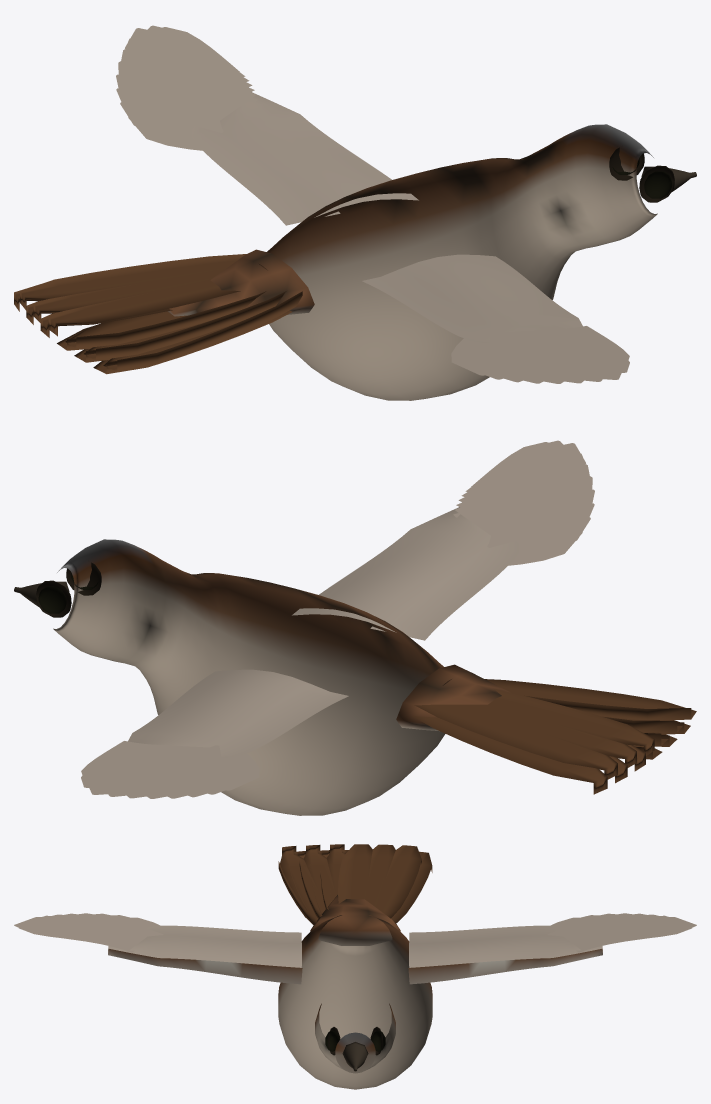
The model's file is SM_Bird_sparrow_glide.glb.
The picture shows the model from 3 angles, top to bottom: view 1: azimuth 30°, elevation 25°; view 2: azimuth 150°, elevation 25°; view 3: azimuth 270°, elevation 25°; orthographic projection. The views are drawn at different scales.
Parts seen in each view (by area): view 1: SM_Bird_sparrow_glide; view 2: SM_Bird_sparrow_glide; view 3: SM_Bird_sparrow_glide.
Part boxes in pixels (<box>): SM_Bird_sparrow_glide: <box>14,25,696,400</box>; SM_Bird_sparrow_glide: <box>14,440,696,815</box>; SM_Bird_sparrow_glide: <box>14,844,696,1089</box>.
Bounding box in the file's own units: 0.1703 × 0.0551 × 0.2219.
